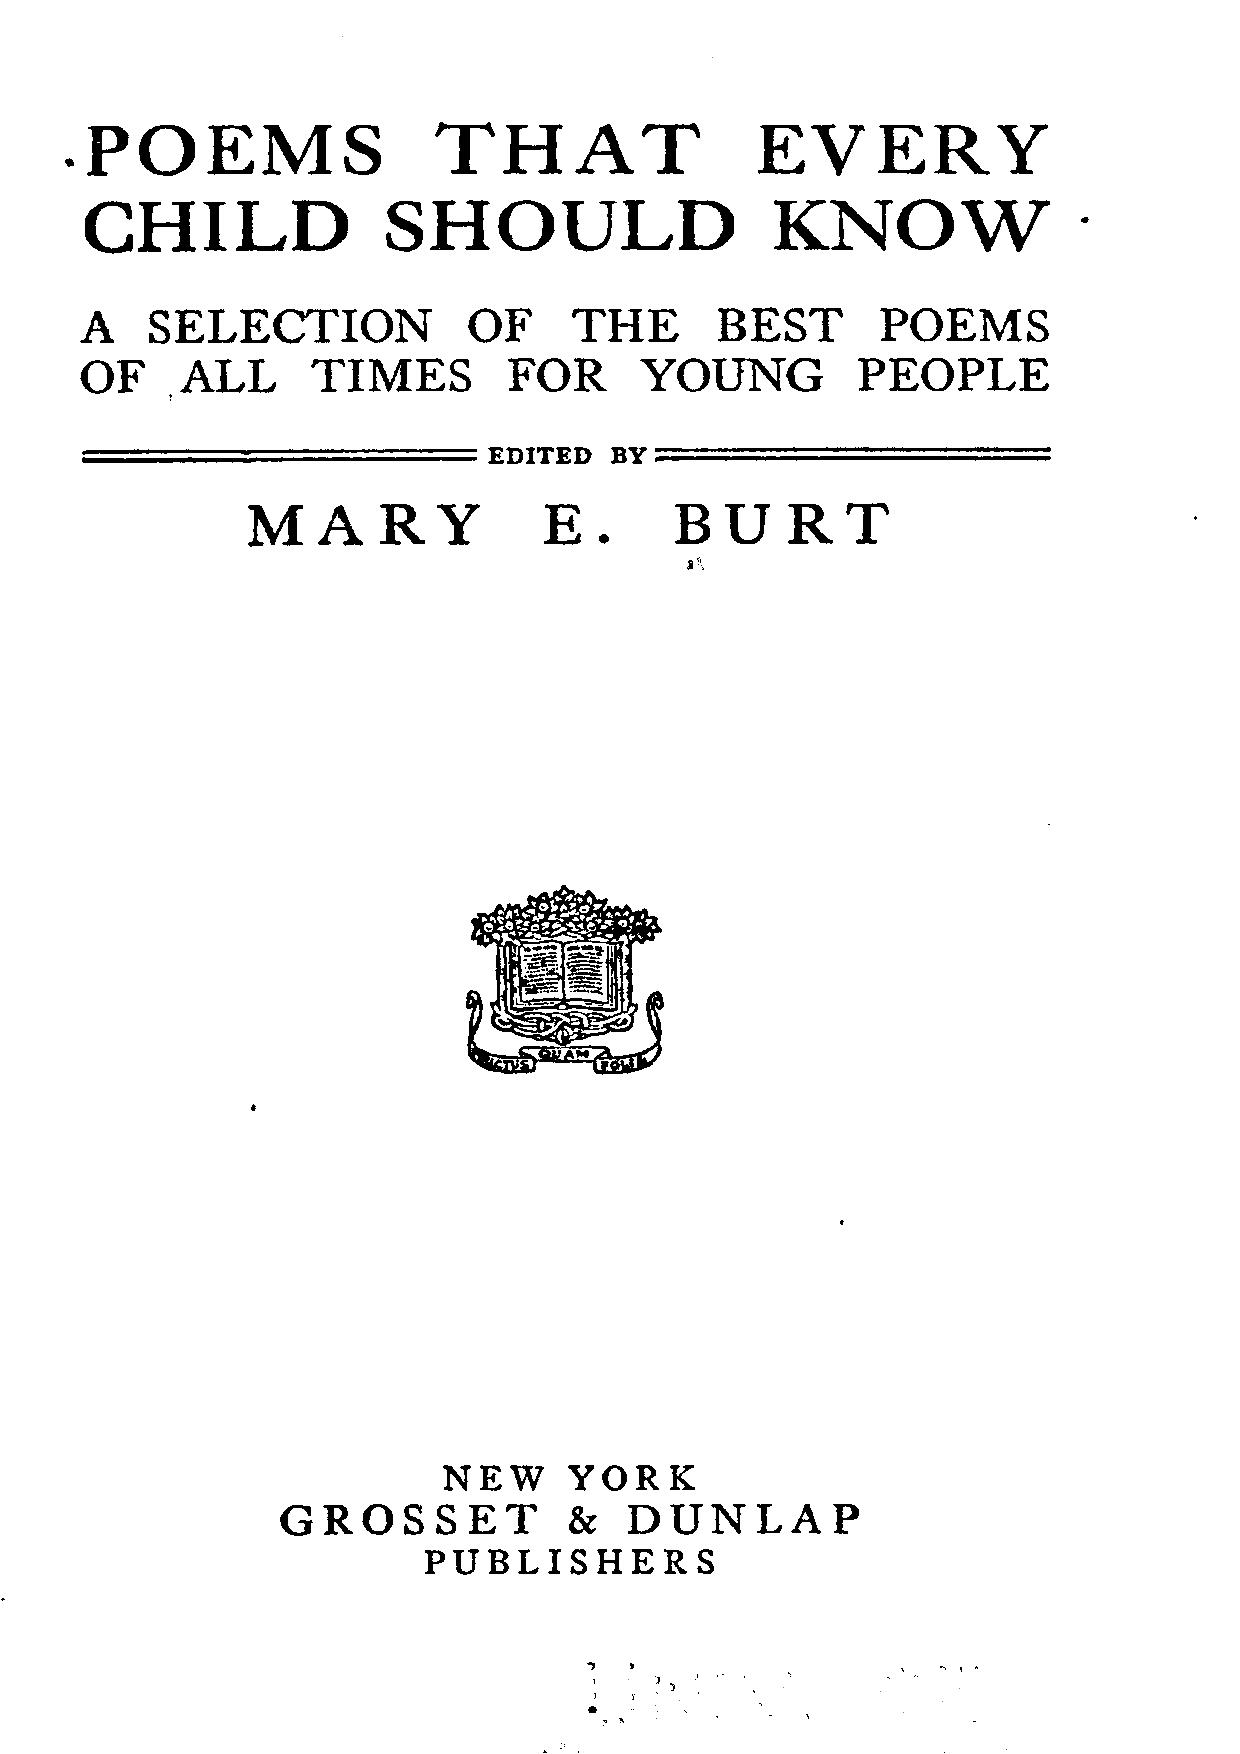author: (242, 498, 888, 552)
title: (82, 119, 1049, 256)
